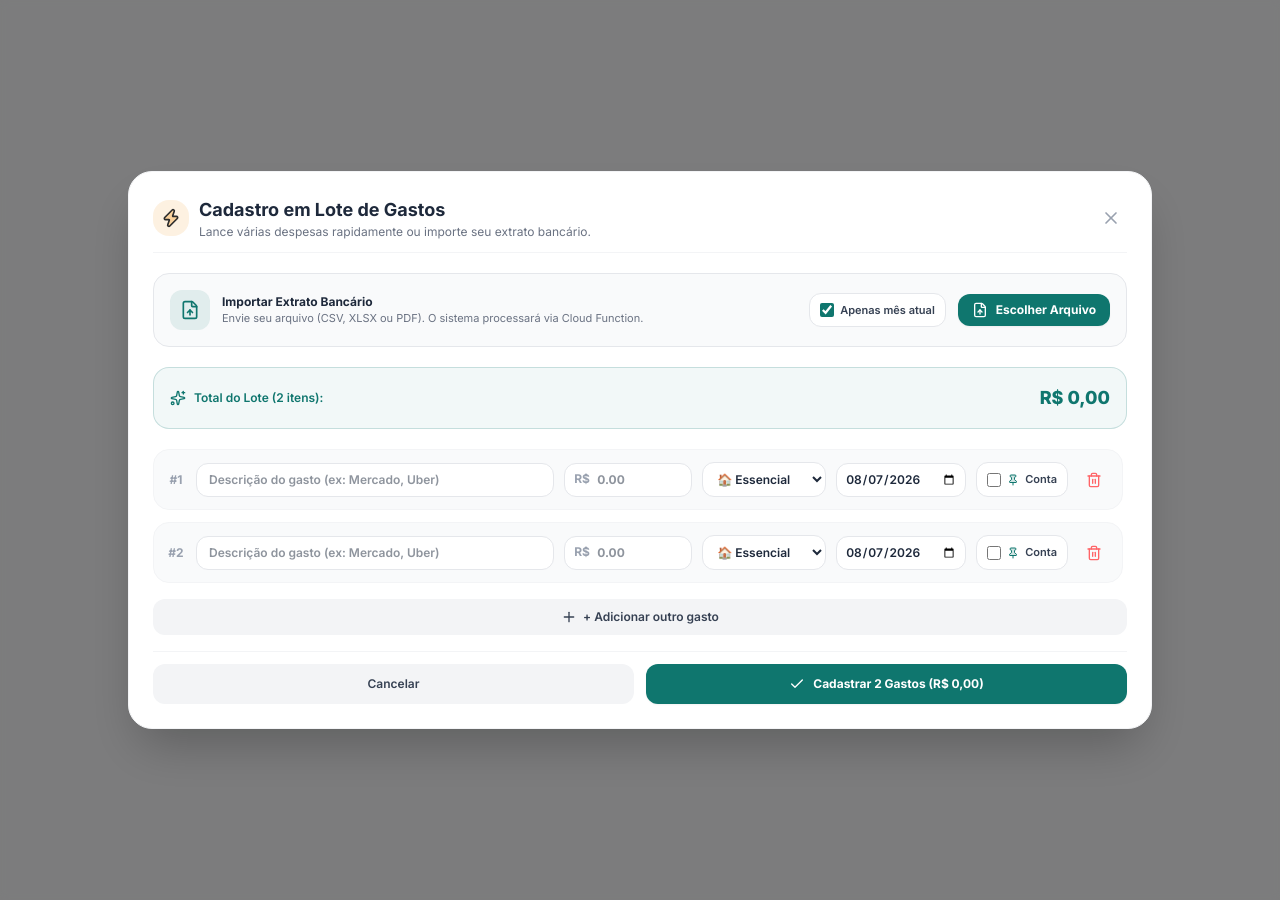
BatchExpenseModal component › shows error if no row has a valid amount
The image size is (1280, 900).
Click the button "Cadastrar 2 Gastos (R$ 0,00)": point(886, 684) [646,664,1127,704]
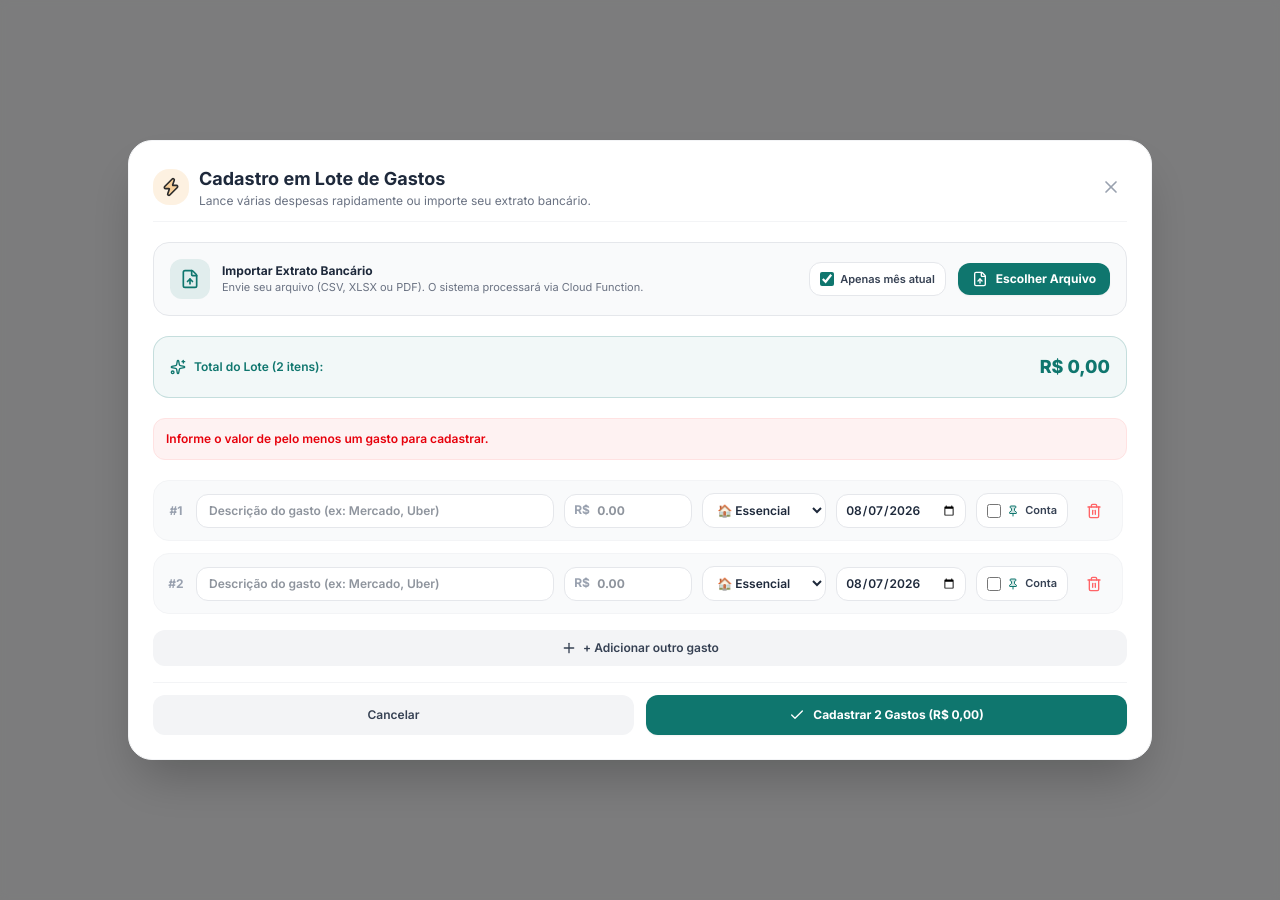
expect the text "Informe o valor de pelo menos um gasto para cadastrar." is shown: met, box [153,418,1127,460]
